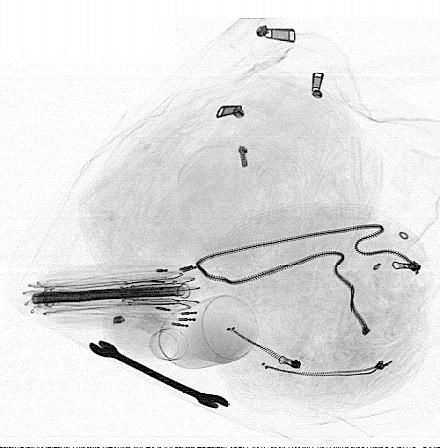Wrench: (87, 337, 230, 409)
